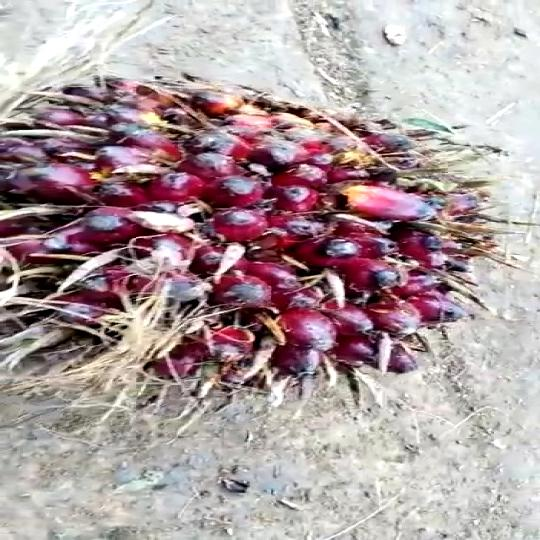kurang masak: (0, 72, 540, 388)
